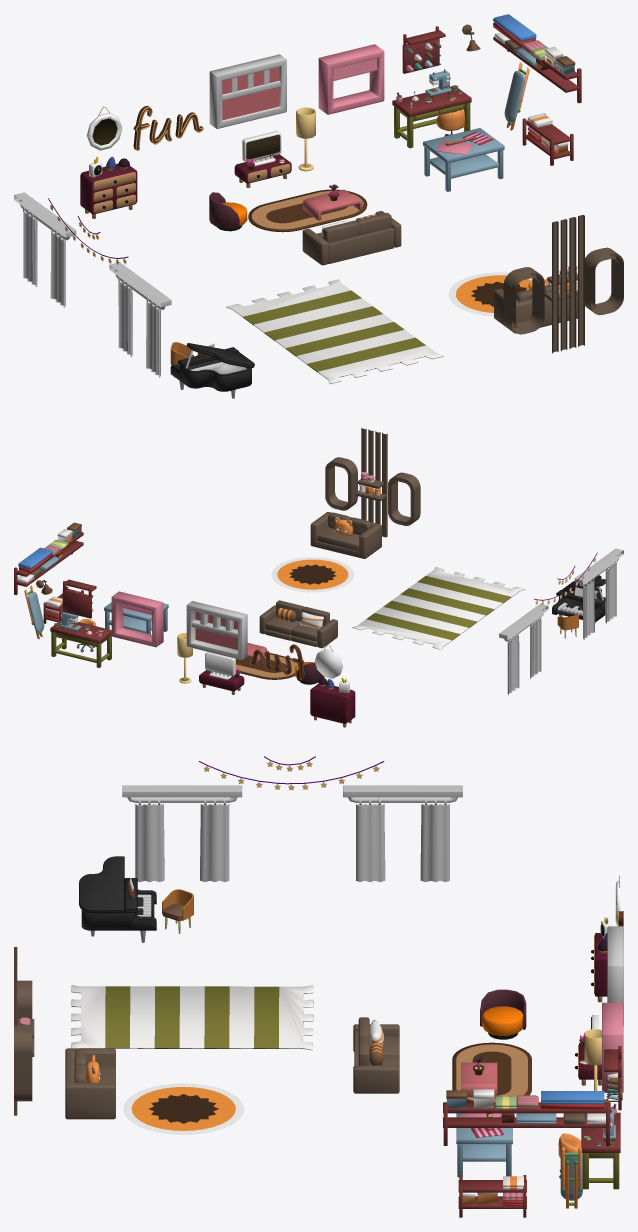
The model's file is 2nd_Floor_Props.fbx.
3 renders of one model, top to bottom at view 1: azimuth 30°, elevation 25°; view 2: azimuth 150°, elevation 25°; view 3: azimuth 270°, elevation 25°, orthographic. The views are drawn at different scales.
Visible parts, largest first — view 1: Rug_02, Shelf_4, Couch_2, Window_1, Window_5, Curtains_1.001, Curtains_1, piano, Table_2, Carpet_2, Cabinet_2, Table_1 (+18 smaller); view 2: Rug_02, Carpet_1, Window_5, Couch_1, Shelf_4, Couch_2, Curtains_1.001, Window_1, Curtains_1, Table_1, Cabinet_2, piano (+14 smaller); view 3: Rug_02, Curtains_1, Curtains_1.001, Carpet_1, piano, Couch_1, Couch_2, Carpet_2, shelf_2, Armchair_1, Table_2, Table_1 (+11 smaller).
Boxes of the visible parts, x1,y1,x2,y2 form: Rug_02: (226,279,443,383); Shelf_4: (544,215,584,353); Couch_2: (302,211,401,265); Window_1: (318,44,384,114); Window_5: (209,54,286,128); Curtains_1.001: (14,192,76,307); Curtains_1: (109,262,171,377); piano: (170,343,254,398); Table_2: (423,128,504,191); Carpet_2: (248,189,367,232); Cabinet_2: (80,163,137,218); Table_1: (392,86,471,148); Rug_02: (352,567,524,649); Carpet_1: (271,557,353,592); Window_5: (186,601,247,659); Couch_1: (310,512,381,558); Shelf_4: (355,428,387,537); Couch_2: (259,600,337,648); Curtains_1.001: (499,603,548,694); Window_1: (111,591,163,647); Curtains_1: (574,548,623,639); Table_1: (50,620,111,667); Cabinet_2: (310,683,355,727); piano: (552,575,605,623); Rug_02: (71,985,313,1050); Curtains_1: (122,785,242,882); Curtains_1.001: (343,785,462,882); Carpet_1: (123,1083,244,1134); piano: (79,856,156,942); Couch_1: (65,1048,115,1119); Couch_2: (353,1017,399,1093); Carpet_2: (452,1042,531,1102); shelf_2: (443,1102,610,1145); Armchair_1: (480,989,526,1039); Table_2: (456,1113,512,1177); Table_1: (581,1112,620,1189).
Size of the model in its own units: 1922 by 428 by 1567.
